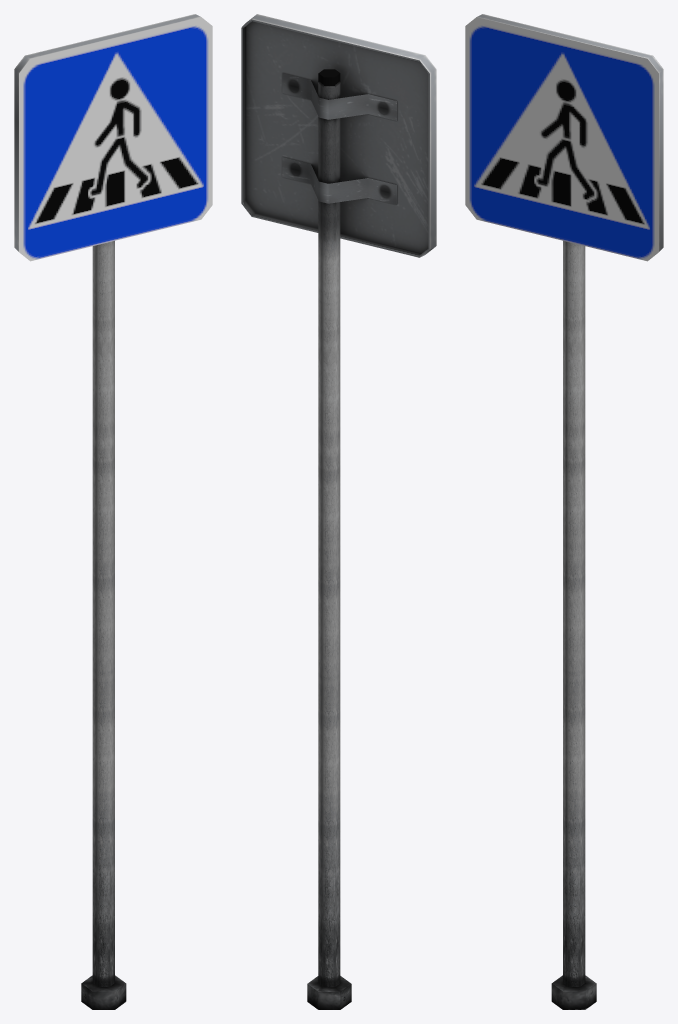
Rendered from ROD0310030.FBX.
3 renders of one model, left to right at view 1: azimuth 30°, elevation 25°; view 2: azimuth 150°, elevation 25°; view 3: azimuth 330°, elevation 25°, orthographic.
Visible parts, largest first — view 1: smROD0310030; view 2: smROD0310030; view 3: smROD0310030.
Part boxes in pixels (x1=…): smROD0310030: x1=14, y1=14, x2=212, y2=1009; smROD0310030: x1=241, y1=14, x2=436, y2=1009; smROD0310030: x1=465, y1=14, x2=663, y2=1009.
Bounding box in the file's own units: 0.5079 × 2.44 × 0.1057.
Materials: 1 (1 with a texture image).
